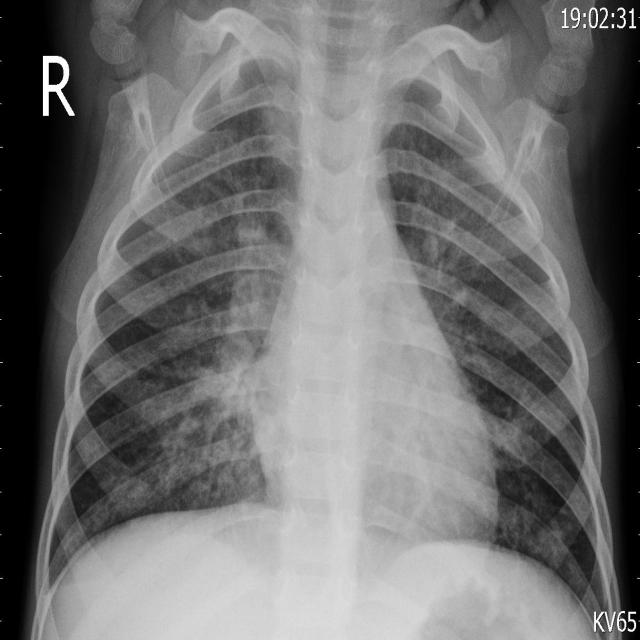high-pneumonia: (398, 191, 500, 378), (243, 33, 304, 188)
low-pneumonia: (162, 205, 283, 494)
